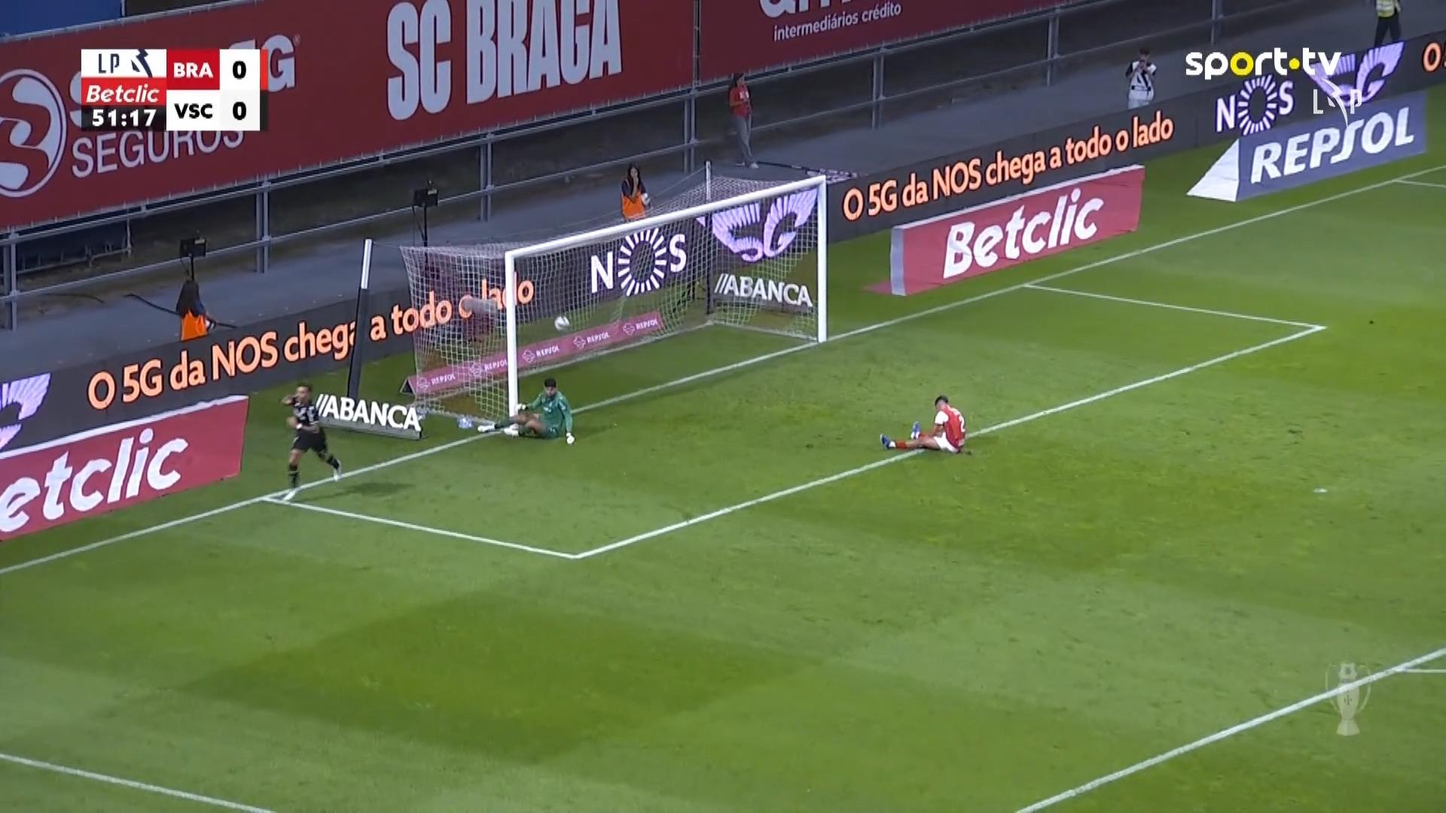ball: (554, 315, 569, 330)
goalkeeper: (456, 376, 575, 445)
player: (279, 383, 343, 488), (877, 394, 968, 455)
